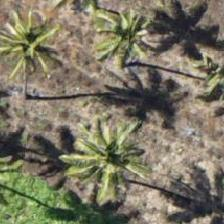coconut_tree: (68, 114, 158, 204), (73, 0, 163, 81), (0, 0, 68, 89)
